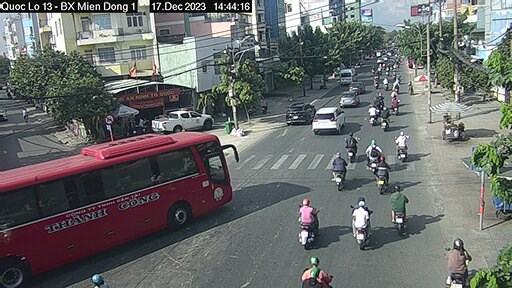car: (1, 125, 236, 281), (158, 108, 218, 127), (314, 106, 349, 134), (286, 100, 316, 123), (339, 90, 361, 109)
motorbike: (291, 195, 321, 249), (437, 230, 465, 283), (348, 197, 376, 246), (389, 186, 406, 236), (328, 150, 346, 187), (362, 139, 384, 168), (344, 132, 360, 162), (398, 131, 410, 168)
